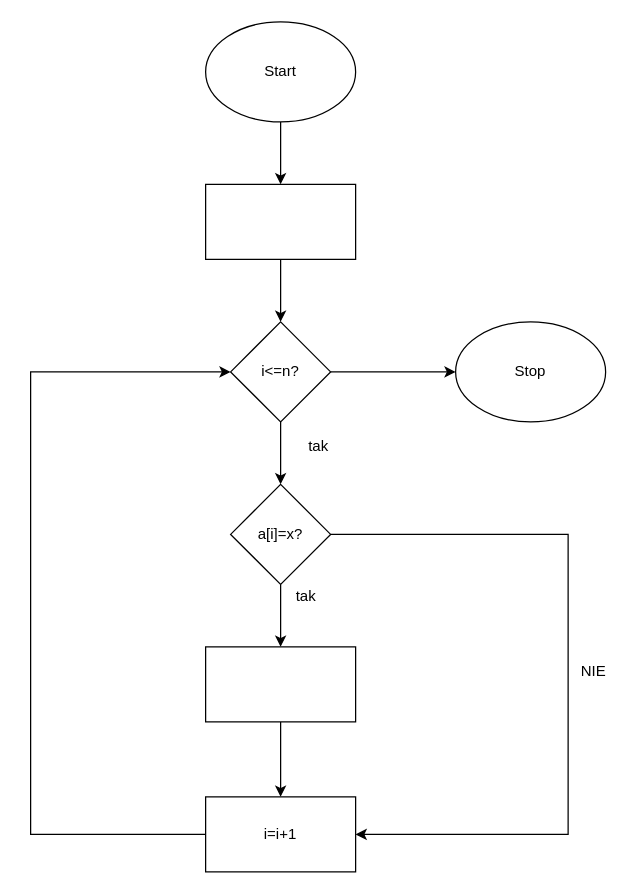
Image size: 640x894. Some labels were removed from this diagram. The box of each missing label's shape, as (x1, y1, x2, y2) in pixels:
Wynik=0 i=1: (204, 183, 356, 259)
wynik=wynik+1: (204, 646, 356, 722)
